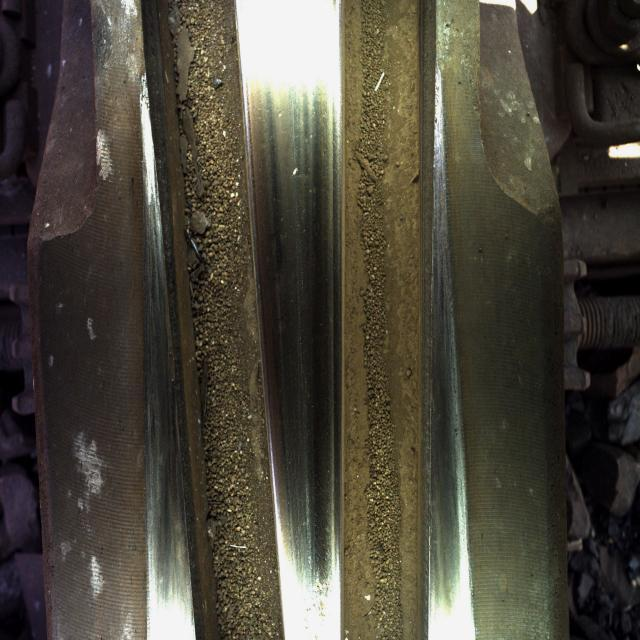normal: (252, 22, 342, 450)
